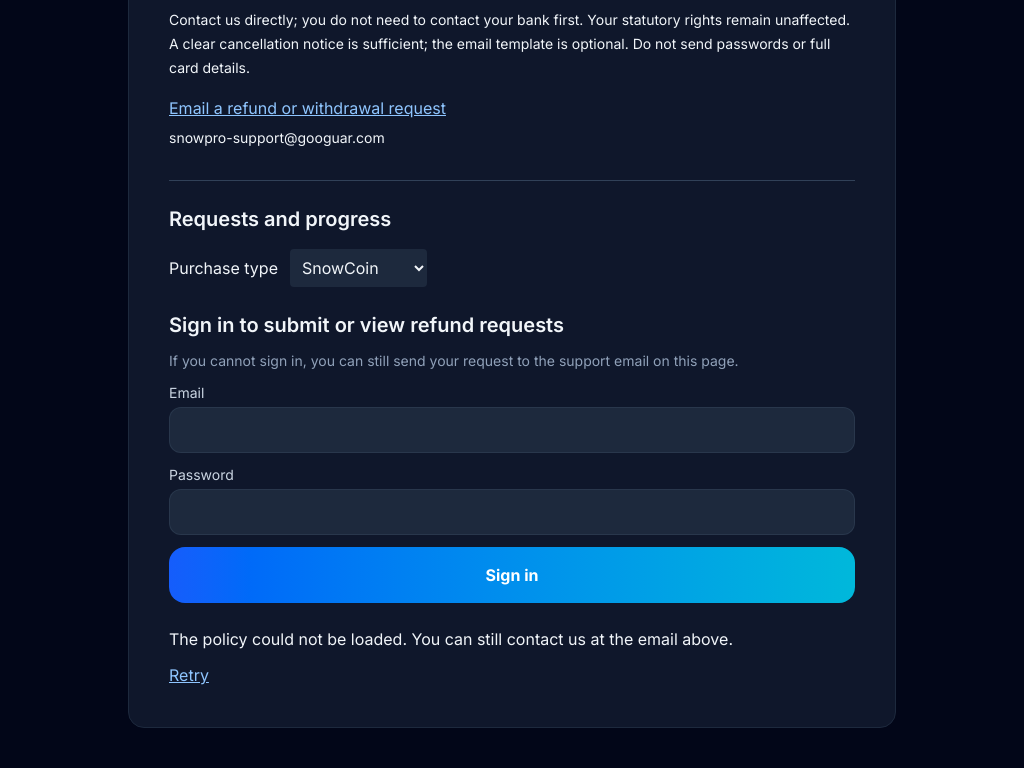
Refund access › keeps a direct contact channel available when the policy service fails and retries
(page scrolled)
Expected: the message is shown, x1=169 y1=629 x2=733 y2=687
Click the button "Retry" at (189, 675), box x1=169 y1=663 x2=209 y2=687
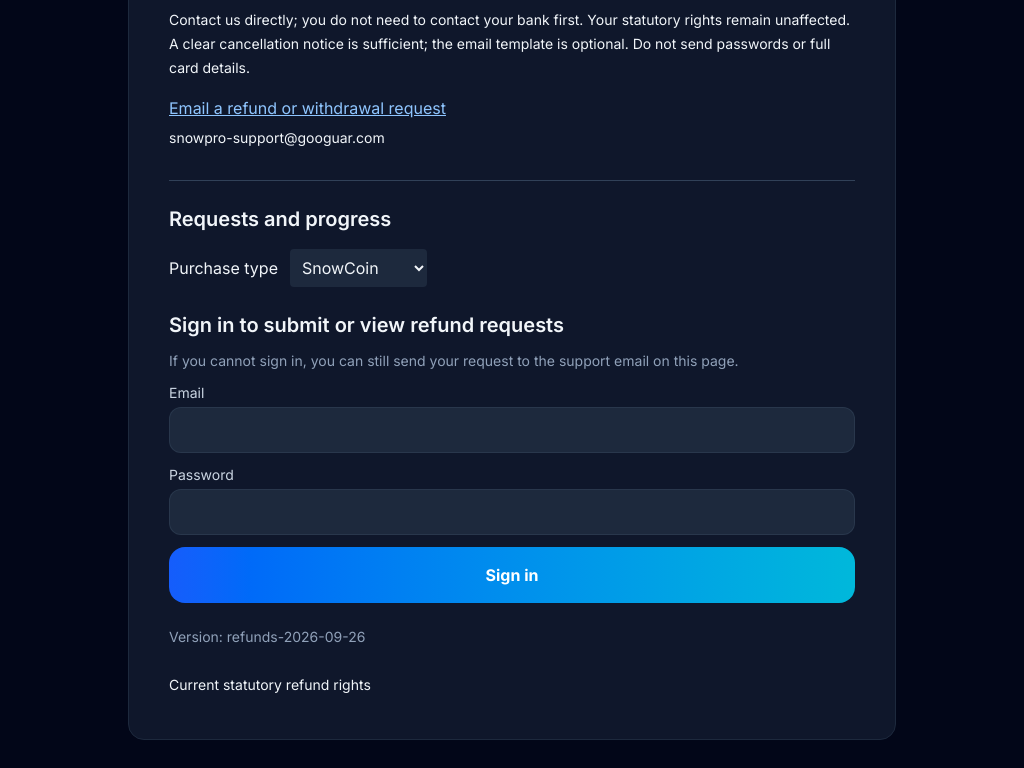
Result: the text "Current statutory refund rights" is shown at x1=169 y1=676 x2=371 y2=693
Result: the message is gone
